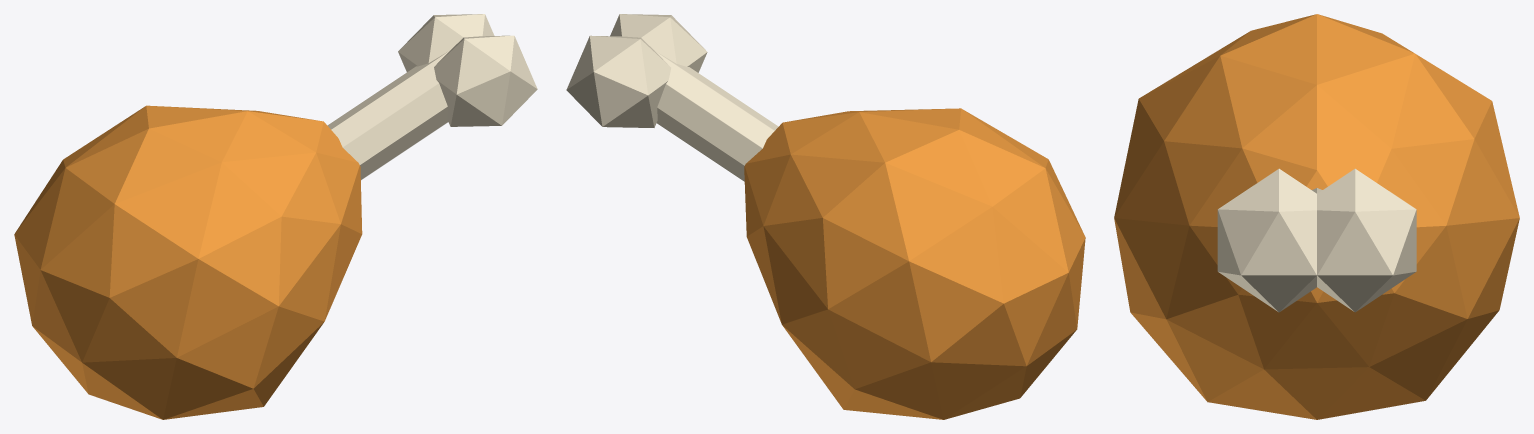
The picture shows the model from 3 angles, left to right: view 1: azimuth 30°, elevation 25°; view 2: azimuth 150°, elevation 25°; view 3: azimuth 270°, elevation 25°; orthographic projection. The views are drawn at different scales.
Visible parts, largest first — view 1: Drumstick; view 2: Drumstick; view 3: Drumstick.
Boxes of the visible parts, x1,y1,x2,y2 form: Drumstick: (14,14,537,419); Drumstick: (566,14,1085,419); Drumstick: (1114,14,1519,419).
Bounding box in the file's own units: 34.85 × 22.53 × 20.26.
